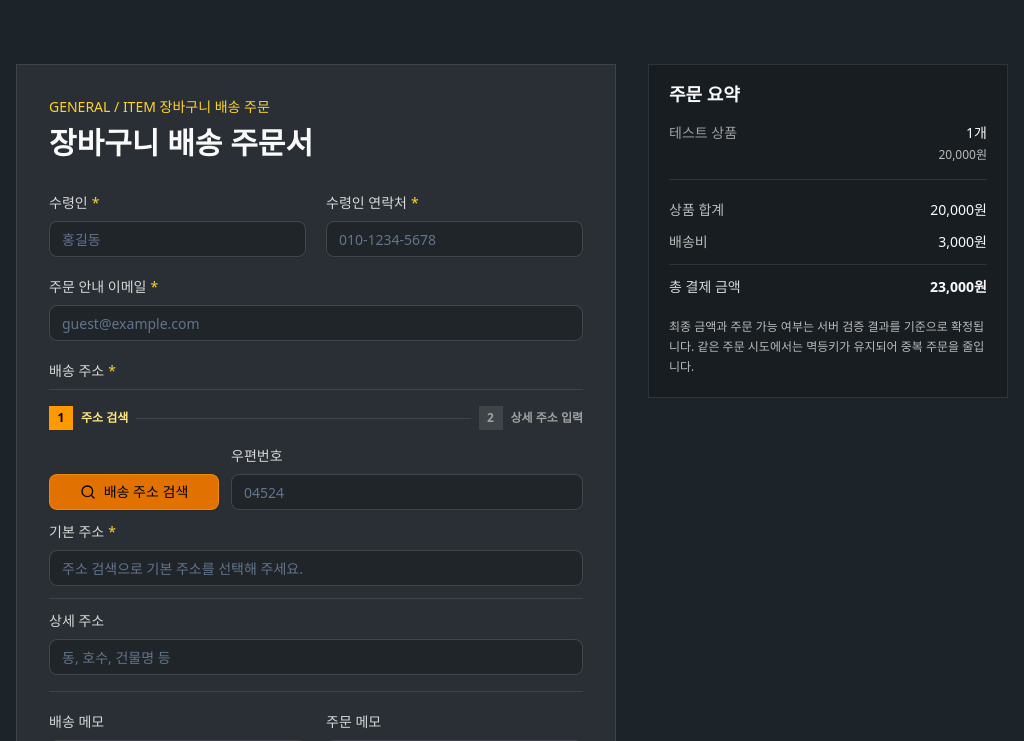
Test: CartDeliveryOrderClient › fills separated order address fields from Kakao postcode search
The width and height of the screenshot is (1024, 741).
Step 1. Click the button "배송 주소 검색" → (134, 492), box x1=49 y1=474 x2=219 y2=510
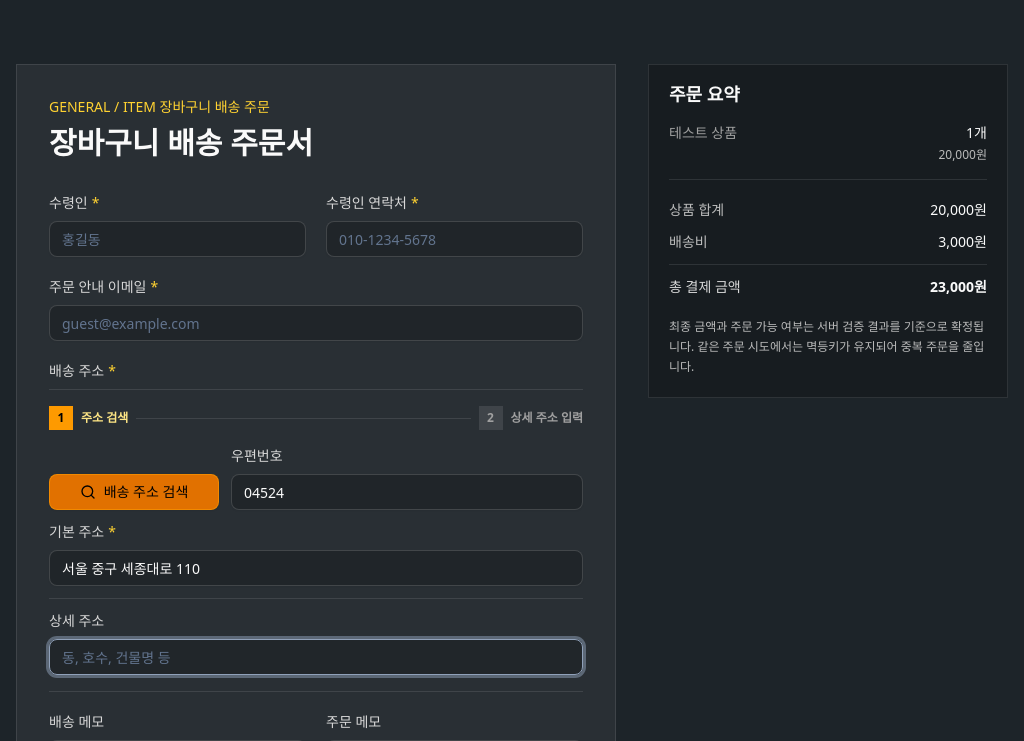
Now the field labelled "우편번호" holds "04524", box x1=231 y1=474 x2=583 y2=510
Now the field labelled "기본 주소*" holds "서울 중구 세종대로 110", box x1=49 y1=550 x2=583 y2=586
